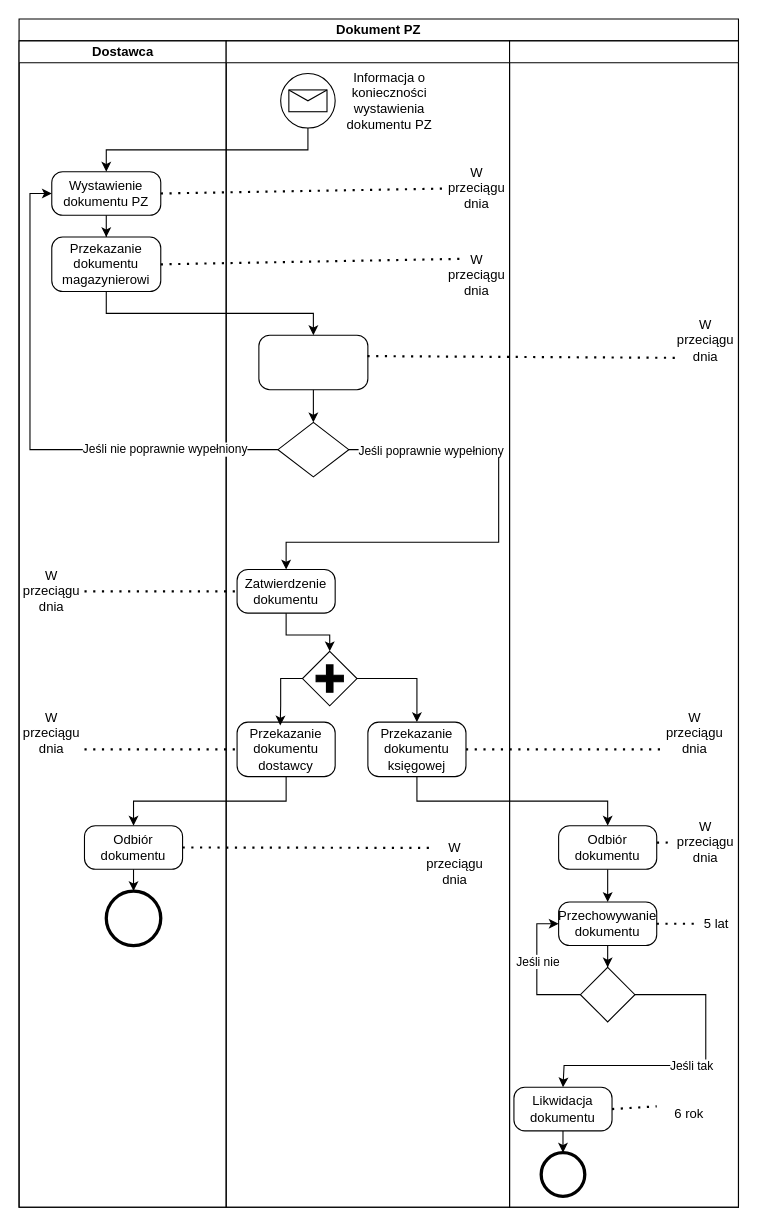
Some shapes in this 758 by 1226 pixel diagram are drawn without their labels. Each missing label, with the box of its shape:
Czy dokument jest poprawnie wypełniony?: (277, 421, 349, 477)
Księgowa: (508, 40, 738, 1207)
Magazynier: (225, 40, 510, 1207)
Sprawdzenie czy minęło 5 lat?: (579, 966, 635, 1022)
Sprawdzenie poprawności dokumentu: (258, 334, 368, 390)
